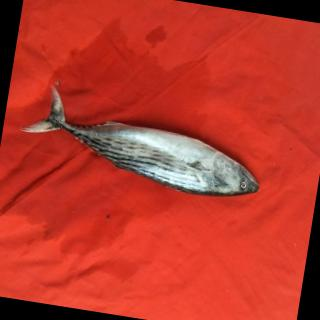Ikan: (13, 78, 280, 222)
